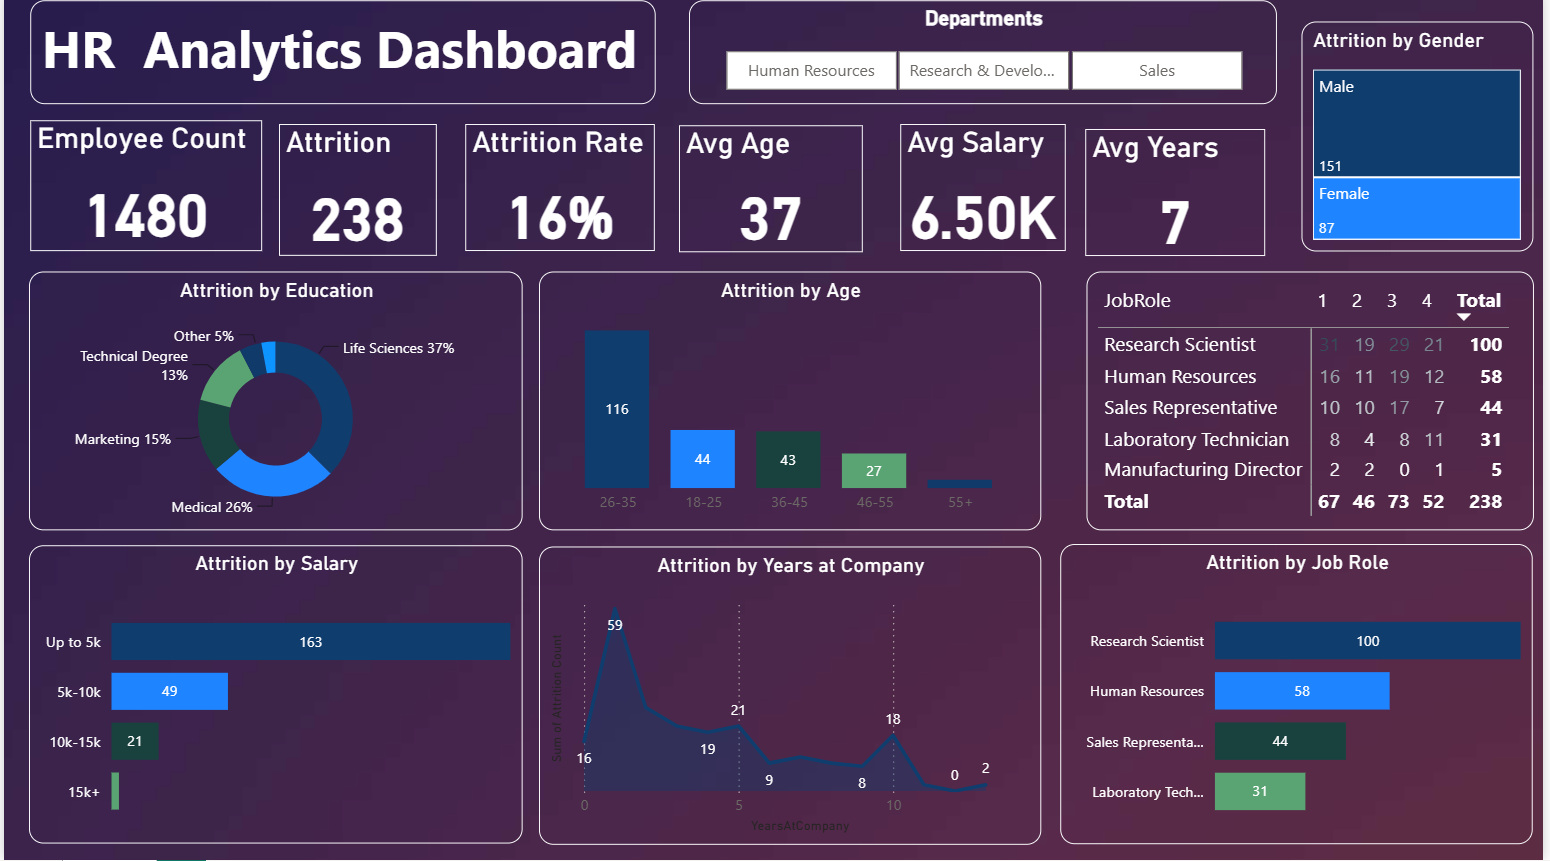

What the dashboard file says about the page in this screenshot:
{"tool":"powerbi","page":{"name":"Page 1","canvas":[1280,720],"ordinal":0},"visuals":[{"type":"card","title":"Employee Count","fields":{"Values":["CountNonNull(HR_Data.EmpID)"]},"box":[21.2,108,192.7,109],"z":0},{"type":"card","title":"Avg Age","fields":{"Values":["Avg(HR_Data.Age)"]},"box":[561.1,109.6,152.9,106],"z":1000},{"type":"card","title":"Attrition","fields":{"Values":["Sum(HR_Data.Attrition Count)"]},"box":[228.8,108.4,131.3,109.6],"z":2000},{"type":"card","title":"Attrition Rate","fields":{"Values":["HR_Data.Attrition_Rate"]},"box":[384.1,108.4,157.7,106],"z":3000},{"type":"card","title":"Avg Salary","fields":{"Values":["Avg(HR_Data.MonthlyIncome)"]},"box":[740.8,110.5,137.3,106],"z":4000},{"type":"card","title":"Avg Years","fields":{"Values":["Avg(HR_Data.YearsAtCompany)"]},"box":[899.1,112,149.3,106],"z":5000},{"type":"textbox","box":[21.7,4.8,520.2,86.7],"z":6000},{"type":"slicer","title":"Departments","fields":{"Values":["Departments.Department"]},"box":[569.6,4.8,488.9,86.7],"z":7000},{"type":"treemap","title":" Attrition by Gender","fields":{"Group":["HR_Data.Gender"],"Values":["Sum(HR_Data.Attrition Count)"]},"box":[1078.9,22.9,192.7,191.5],"z":8000},{"type":"donutChart","title":" Attrition by Education","fields":{"Category":["Education.Education"],"Y":["Sum(HR_Data.Attrition Count)"]},"box":[20.5,231.2,410.6,215.5],"z":9000},{"type":"barChart","title":" Attrition by Salary","fields":{"Category":["HR_Data.SalarySlab"],"Series":["HR_Data.SalarySlab"],"Y":["Sum(HR_Data.Attrition Count)"]},"box":[20.5,458.8,410.6,248.1],"z":10000},{"type":"pivotTable","title":" Attrition by Education","fields":{"Columns":["HR_Data.JobSatisfaction"],"Rows":["Jobs.JobRole"],"Values":["Sum(HR_Data.Attrition Count)"]},"box":[899.5,231.2,372.1,215.5],"z":11000},{"type":"areaChart","title":" Attrition by Years at Company","fields":{"Category":["HR_Data.YearsAtCompany"],"Y":["Sum(HR_Data.Attrition Count)"]},"box":[444.8,459.2,417.6,248.3],"z":12000},{"type":"columnChart","title":" Attrition by Age","fields":{"Category":["HR_Data.AgeGroup"],"Series":["HR_Data.AgeGroup"],"Y":["Sum(HR_Data.Attrition Count)"]},"box":[444.8,231,417.6,215.2],"z":13000},{"type":"barChart","title":" Attrition by Job Role","fields":{"Category":["Jobs.JobRole"],"Series":["Jobs.JobRole"],"Y":["Sum(HR_Data.Attrition Count)"]},"box":[878.2,457.8,393.2,249.7],"z":14000}]}

Visuals, with their boxes in screenshot pixels (x1, y1, x2, y2), scaled from the page's 1280x720 canvas onto the 1550x861 screenshot:
"Employee Count" card: bbox=[26, 129, 259, 259]
"Avg Age" card: bbox=[679, 131, 865, 258]
"Attrition" card: bbox=[277, 130, 436, 261]
"Attrition Rate" card: bbox=[465, 130, 656, 256]
"Avg Salary" card: bbox=[897, 132, 1063, 259]
"Avg Years" card: bbox=[1089, 134, 1270, 261]
textbox: bbox=[26, 6, 656, 109]
"Departments" slicer: bbox=[690, 6, 1282, 109]
" Attrition by Gender" treemap: bbox=[1306, 27, 1540, 256]
" Attrition by Education" donutChart: bbox=[25, 276, 522, 534]
" Attrition by Salary" barChart: bbox=[25, 549, 522, 845]
" Attrition by Education" pivotTable: bbox=[1089, 276, 1540, 534]
" Attrition by Years at Company" areaChart: bbox=[539, 549, 1044, 846]
" Attrition by Age" columnChart: bbox=[539, 276, 1044, 534]
" Attrition by Job Role" barChart: bbox=[1063, 547, 1540, 846]
